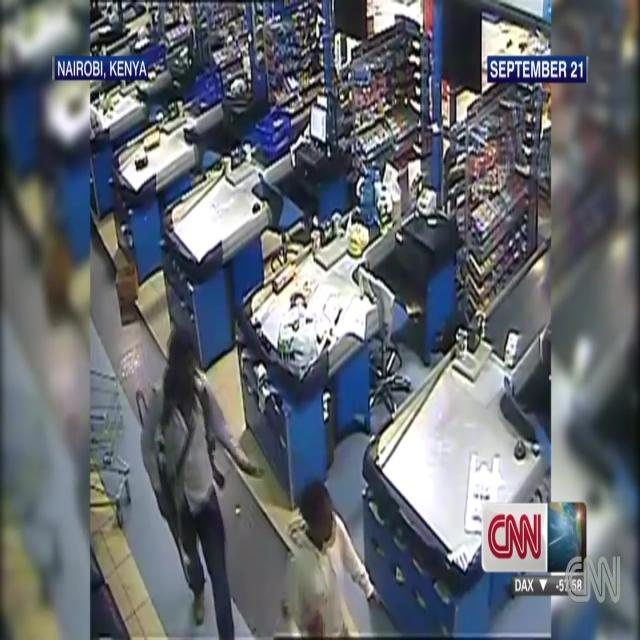Weapon: (130, 364, 227, 610)
